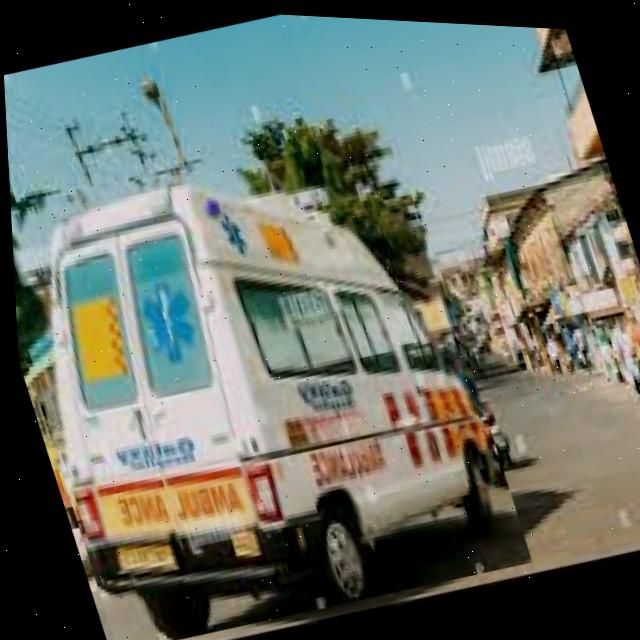Ambulance: (4, 101, 530, 640)
